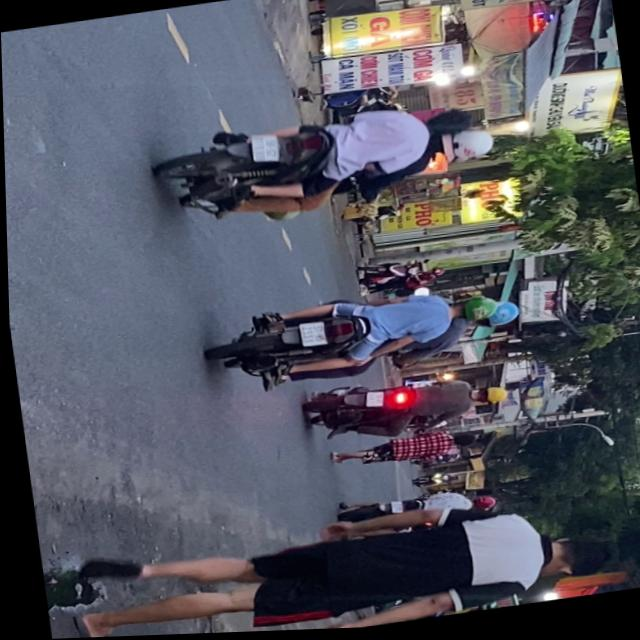helmet: (428, 127, 496, 170), (448, 296, 497, 326), (473, 301, 518, 332), (471, 387, 506, 409)
licenseplate: (145, 90, 503, 238), (199, 276, 521, 399), (297, 366, 510, 449)
motorcyclist: (420, 106, 475, 139)
nohelmet: (248, 134, 280, 166), (297, 323, 323, 349), (361, 392, 382, 410)
